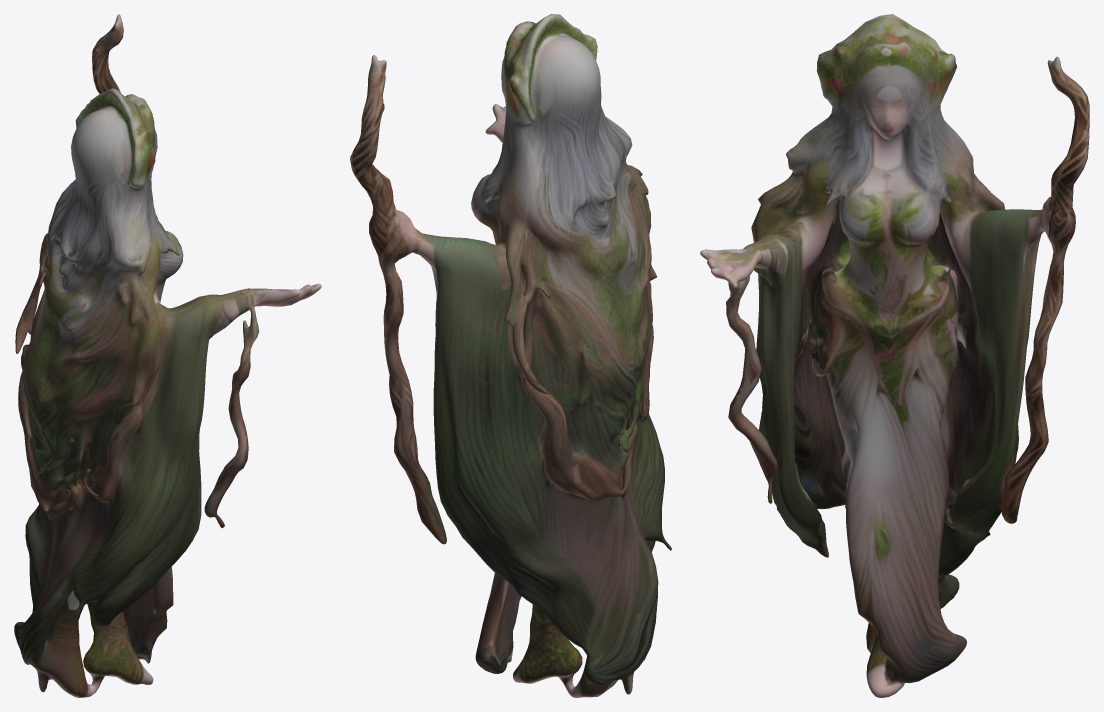
Rendered from Gaia4.glb.
3 views of the same model, side by side, from view 1: azimuth 30°, elevation 25°; view 2: azimuth 150°, elevation 25°; view 3: azimuth 270°, elevation 25° (orthographic). The views are drawn at different scales.
Visible parts, largest first — view 1: tripo_node_d67794a3-e7f8-4471-b58d-356cd5255c05; view 2: tripo_node_d67794a3-e7f8-4471-b58d-356cd5255c05; view 3: tripo_node_d67794a3-e7f8-4471-b58d-356cd5255c05.
Part boxes in pixels (<box>): tripo_node_d67794a3-e7f8-4471-b58d-356cd5255c05: <box>14,14,321,697</box>; tripo_node_d67794a3-e7f8-4471-b58d-356cd5255c05: <box>350,14,671,697</box>; tripo_node_d67794a3-e7f8-4471-b58d-356cd5255c05: <box>700,14,1089,697</box>.
Size of the model in its own units: 0.3567 by 0.9417 by 0.4971.
Materials: 1 (1 with a texture image).
